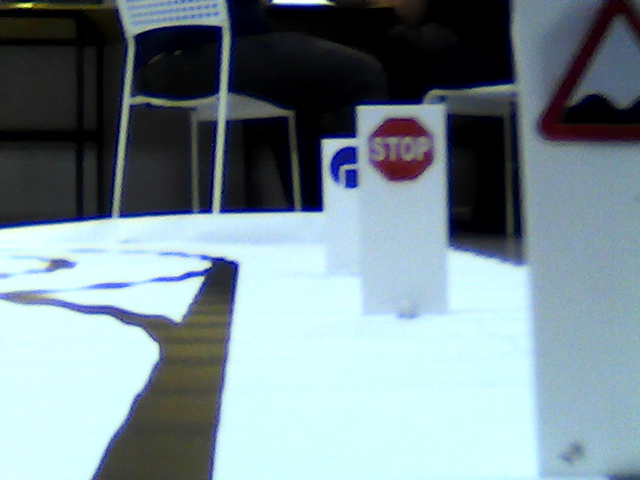Nerov: (534, 3, 640, 142)
Stop: (365, 114, 438, 177)
